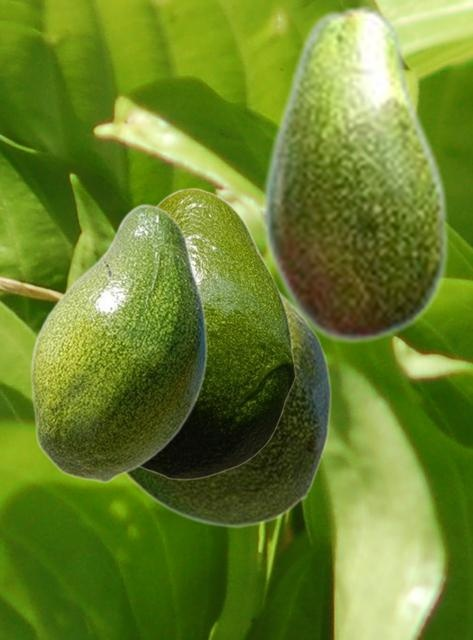avocado: (262, 2, 449, 345), (124, 289, 331, 528), (30, 203, 207, 482), (140, 187, 295, 479)
